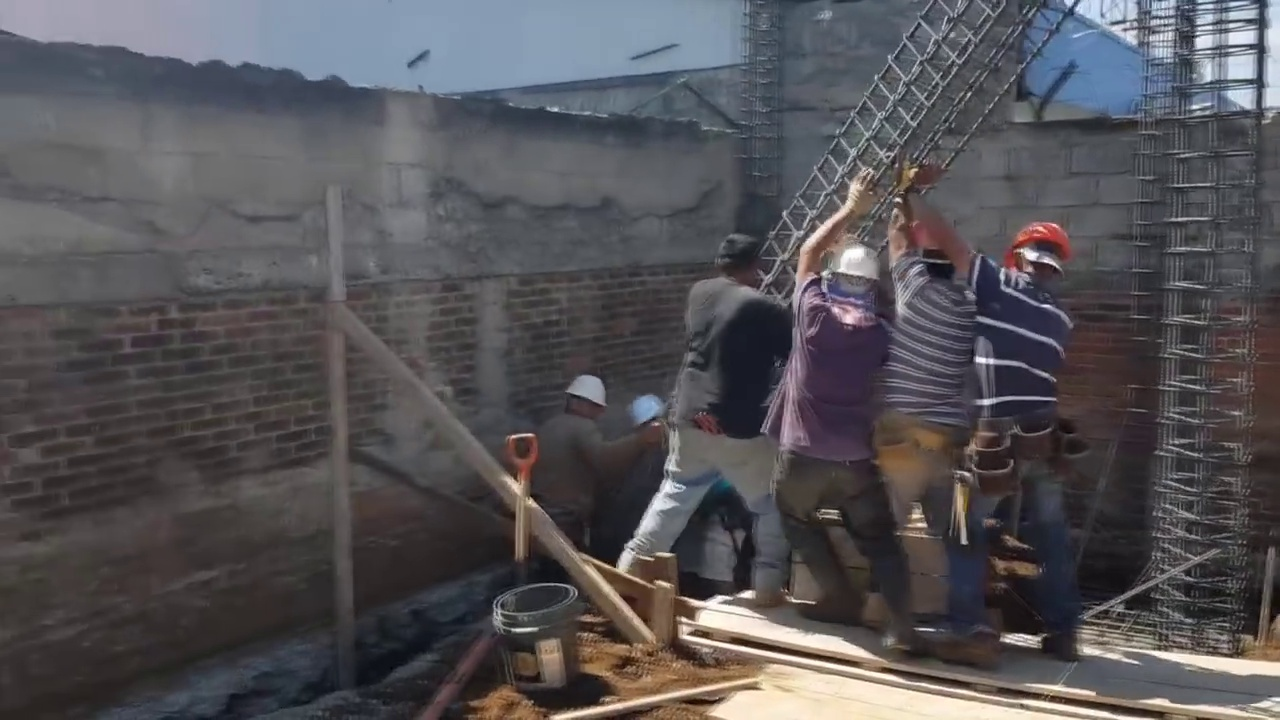helmet: (1003, 220, 1074, 270), (833, 243, 881, 280), (562, 374, 608, 408), (625, 394, 669, 426), (913, 218, 952, 252)
helmet-off: (713, 232, 765, 284)
helmet-on: (1002, 218, 1074, 289), (833, 244, 880, 321), (914, 215, 960, 285), (562, 374, 608, 421)
person: (616, 225, 783, 612), (786, 169, 925, 628), (951, 211, 1085, 656), (880, 161, 980, 659), (517, 374, 663, 561)
